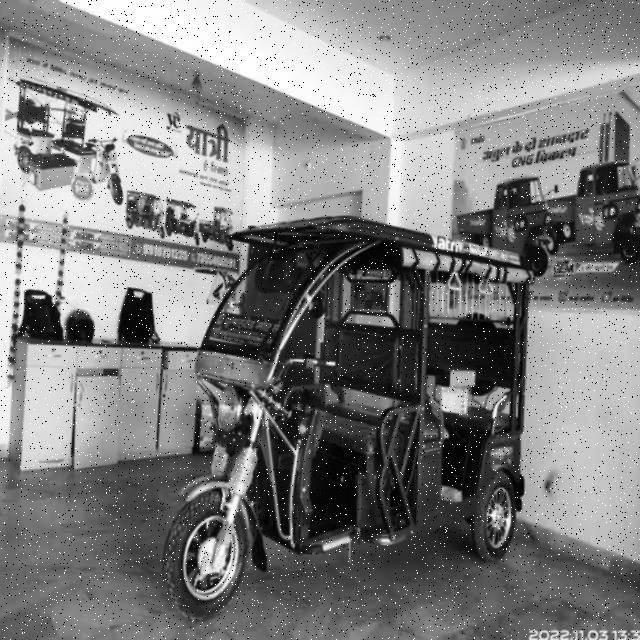Toto: (157, 207, 531, 613)
